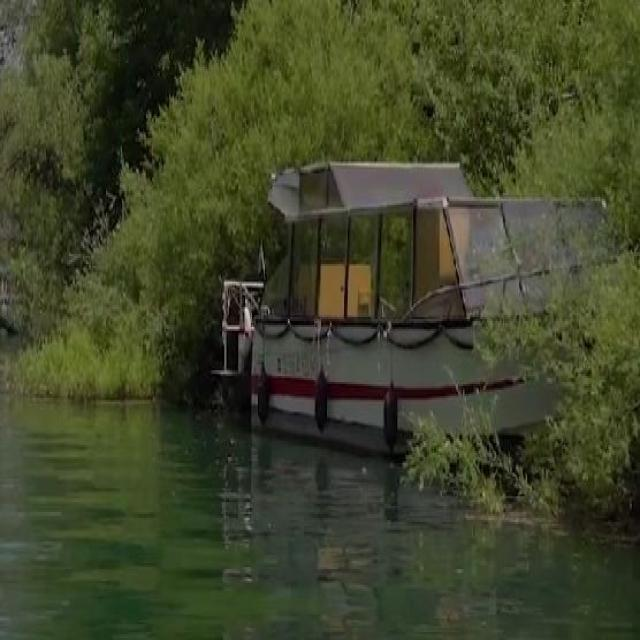boat: (219, 165, 594, 467)
